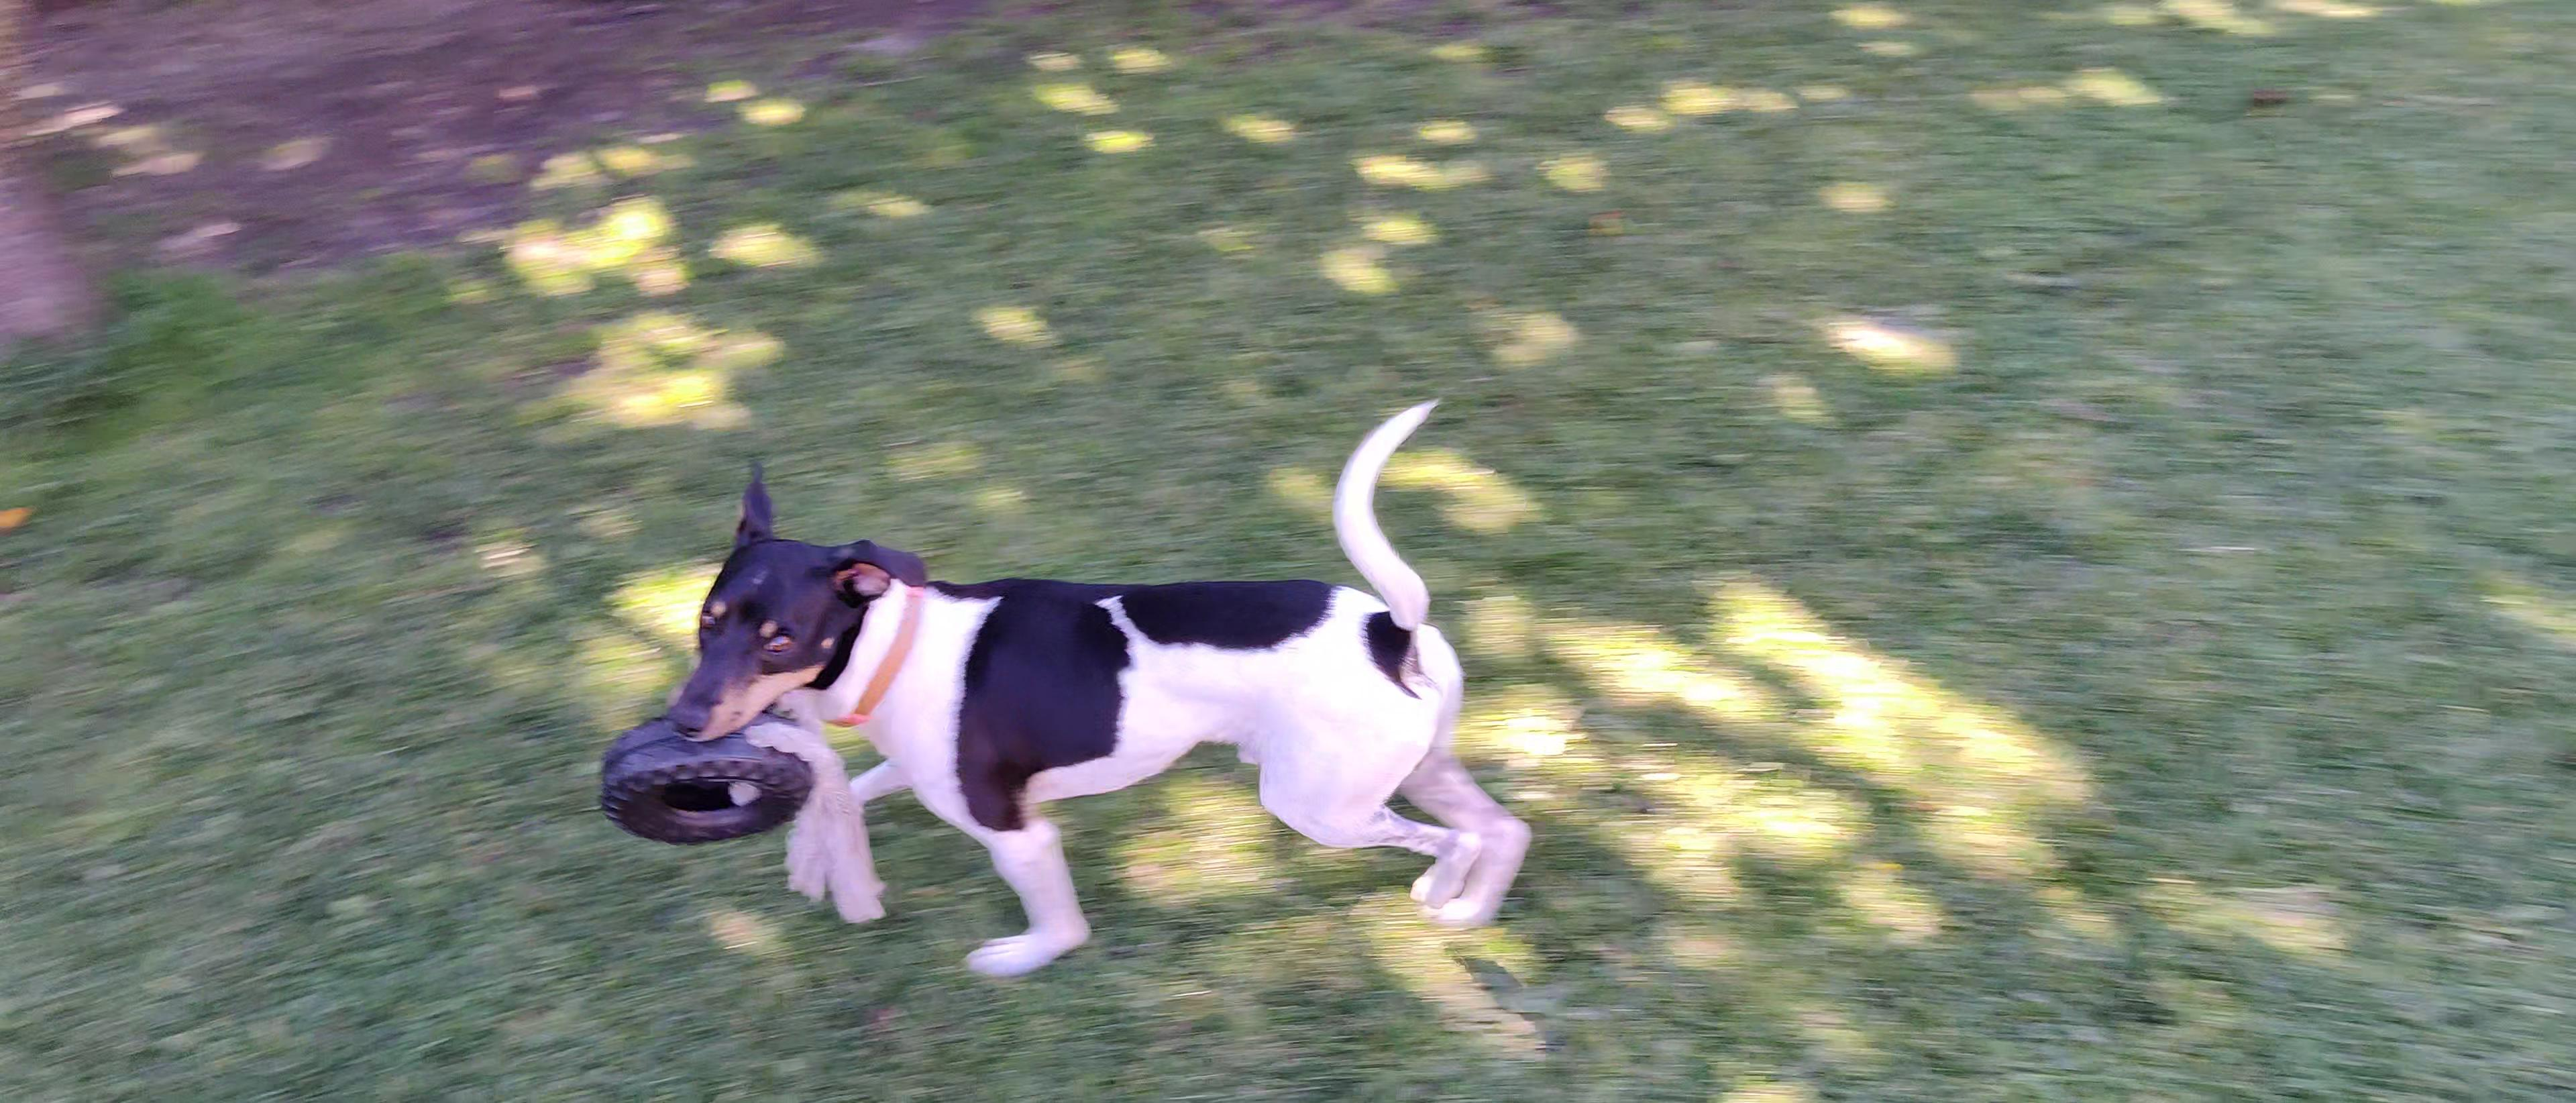Dog: (651, 393, 1546, 983)
